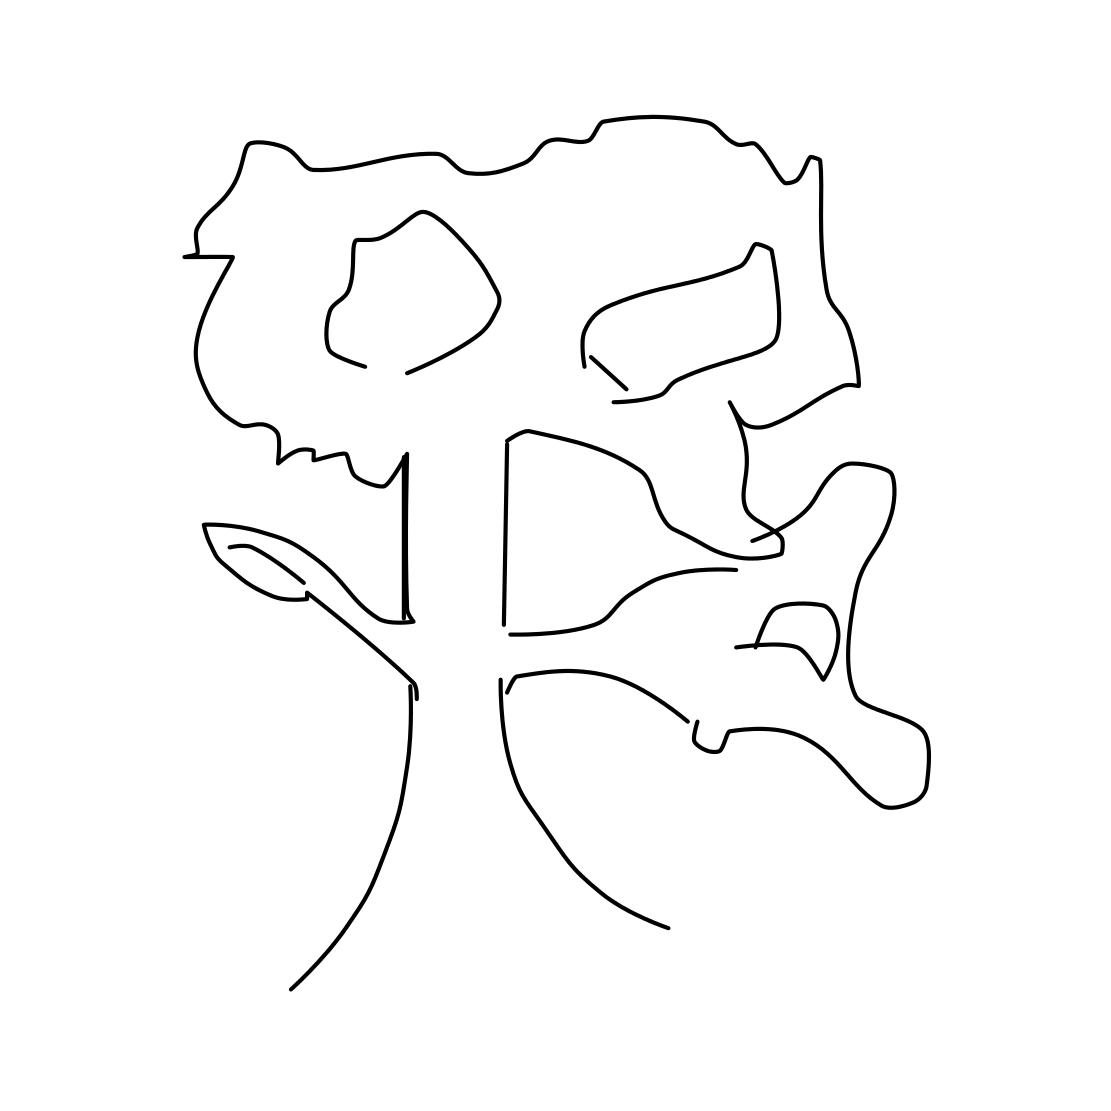Tree: (134, 93, 951, 996)
